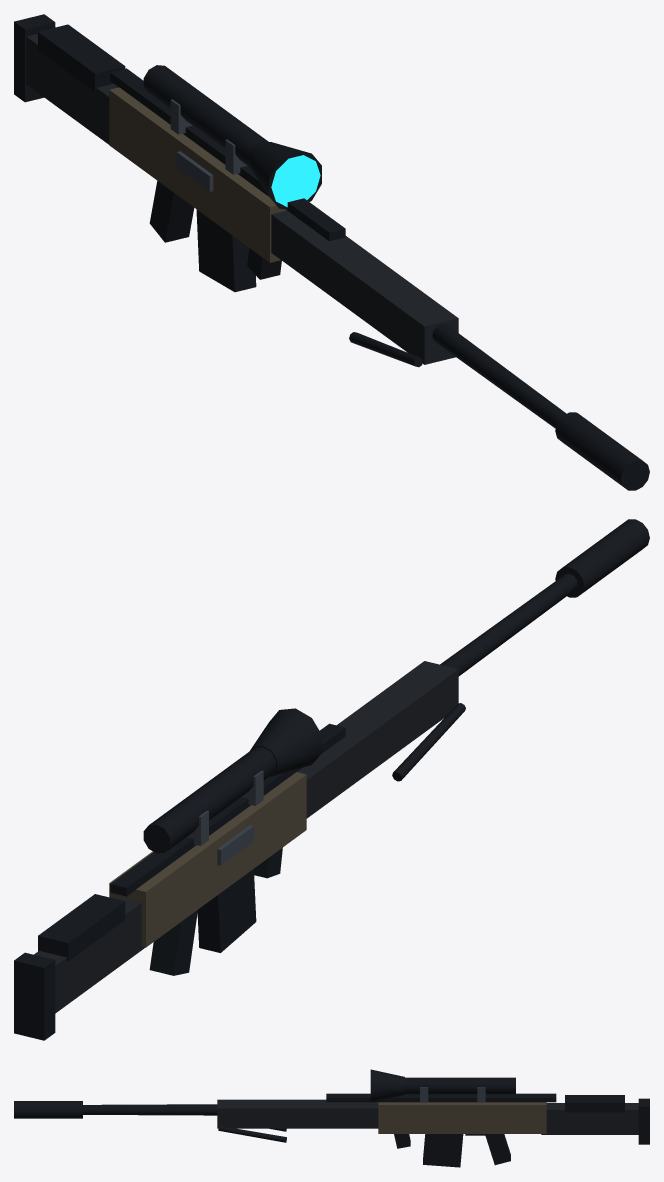
The model's file is cheytac.glb.
3 renders of one model, top to bottom at view 1: azimuth 30°, elevation 25°; view 2: azimuth 150°, elevation 25°; view 3: azimuth 270°, elevation 25°, orthographic. The views are drawn at different scales.
Visible parts, largest first — view 1: Weapon_cheytac; view 2: Weapon_cheytac; view 3: Weapon_cheytac.
Boxes of the visible parts, bbox=[...] form: Weapon_cheytac: bbox=[14, 14, 649, 490]; Weapon_cheytac: bbox=[14, 519, 649, 1040]; Weapon_cheytac: bbox=[14, 1069, 649, 1167].
Bounding box in the file's own units: 0.084 × 0.2712 × 1.66.
